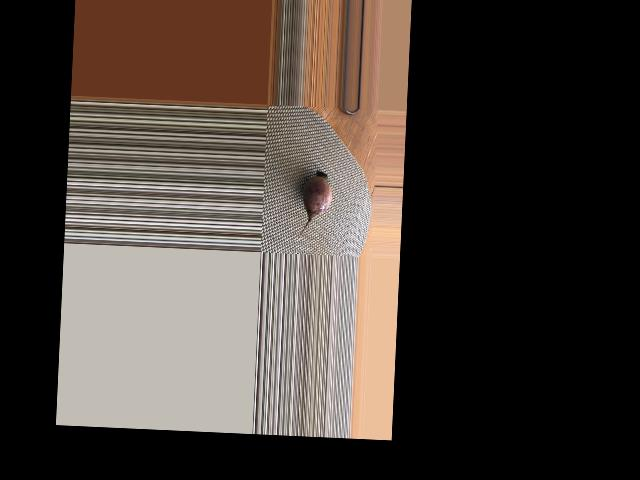beet: (294, 169, 333, 242)
